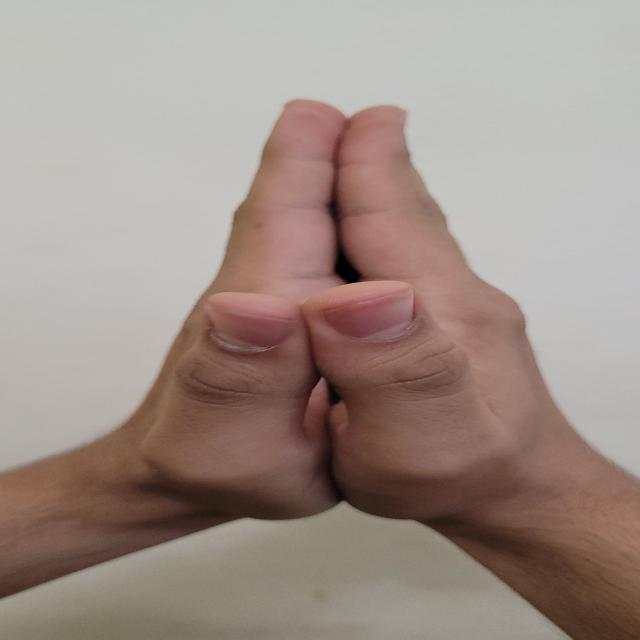Thank You: (93, 74, 543, 576)
